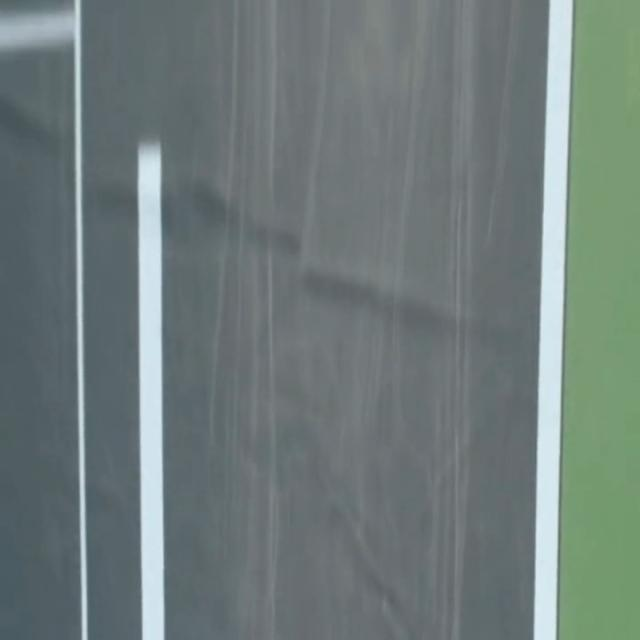center: (139, 142, 164, 639)
right: (533, 0, 572, 639)
